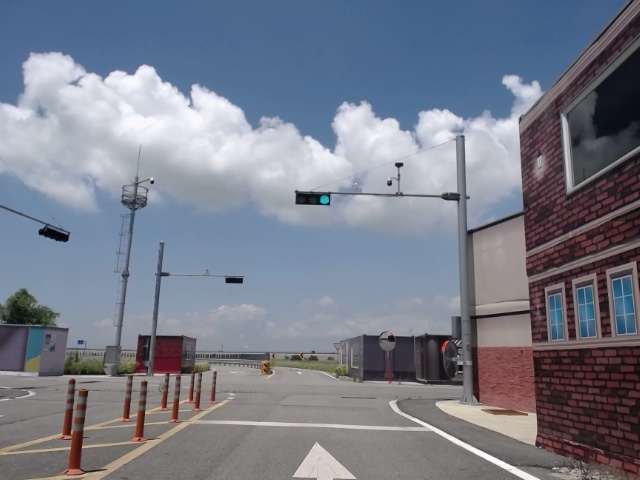green_3: (299, 188, 328, 207)
